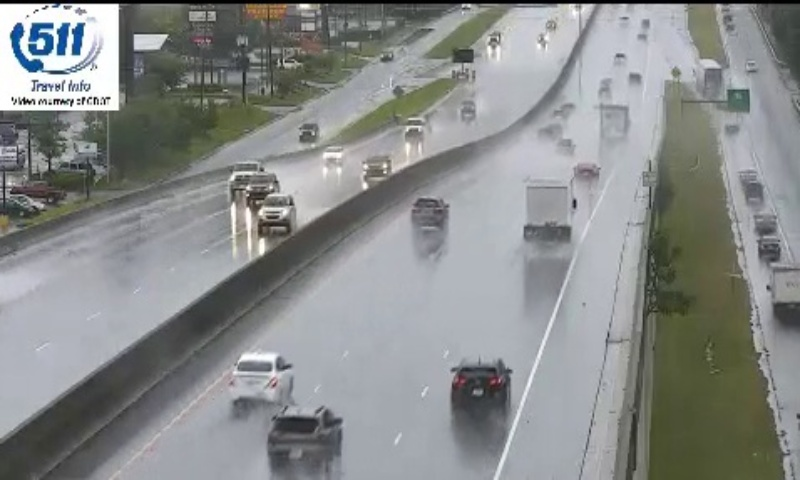car: (269, 405, 343, 462), (227, 354, 292, 407), (451, 360, 508, 409), (411, 196, 448, 226)
small-truck: (523, 179, 574, 243)
